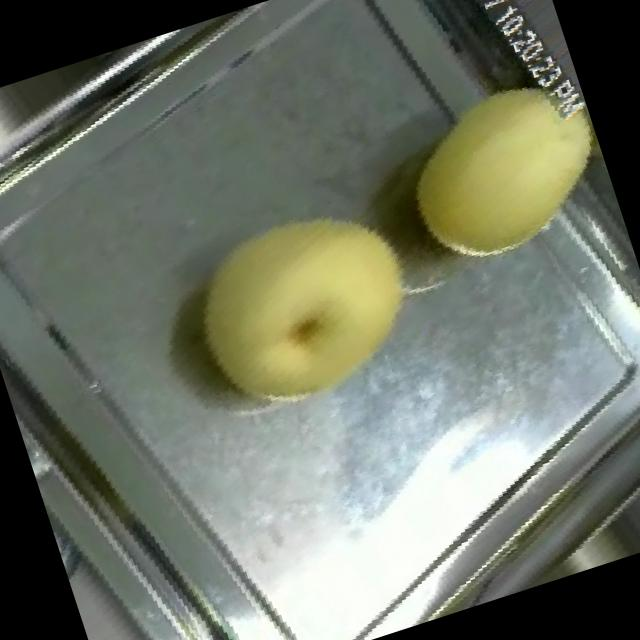Fruit: (128, 143, 472, 470), (358, 41, 630, 306)
